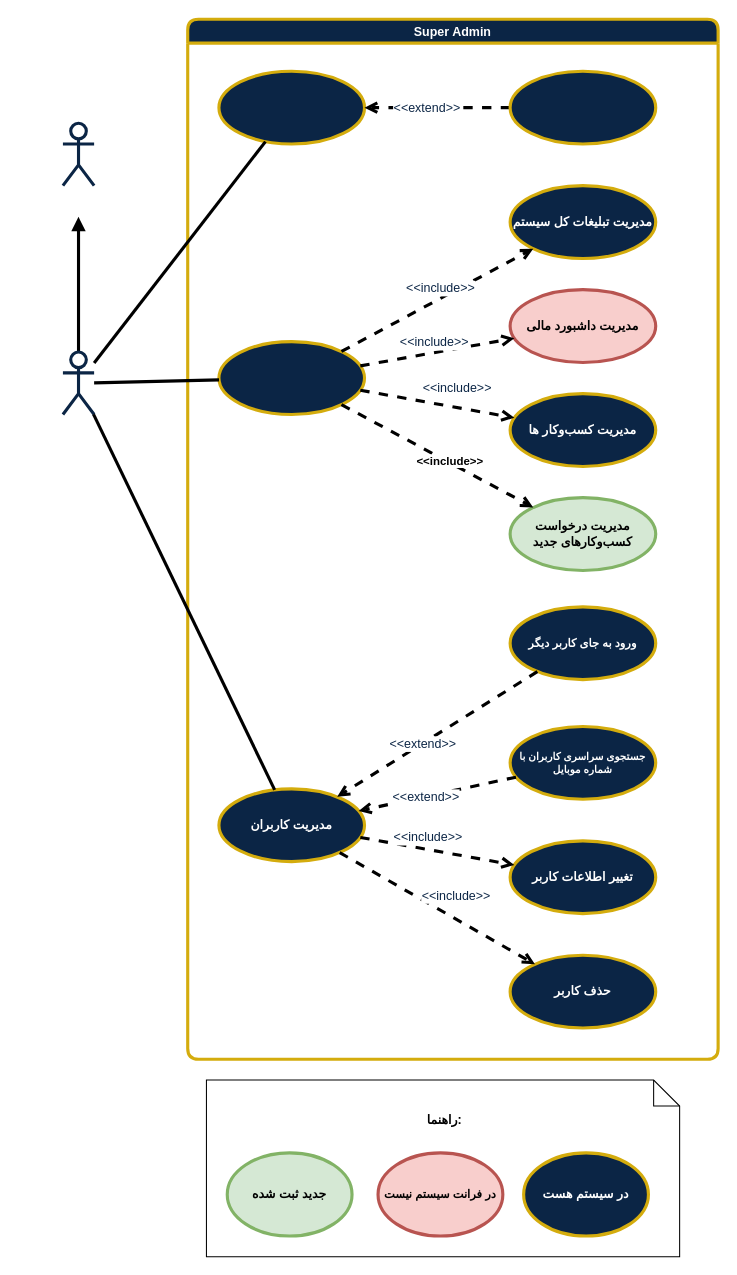
Some shapes in this 737 by 1275 pixel diagram are drawn without their labels. Here are the shapes that lost their labels. From the top down, the centre of each, then its label:
At [291,107]: "ورود".
At [582,107]: "بازیابی رمز".
At [78,154]: "مشتری".
At [78,382]: "سوپر ادمین (ادمین کل)".
At [291,377]: "عملیات مدیریتی ویژه".
